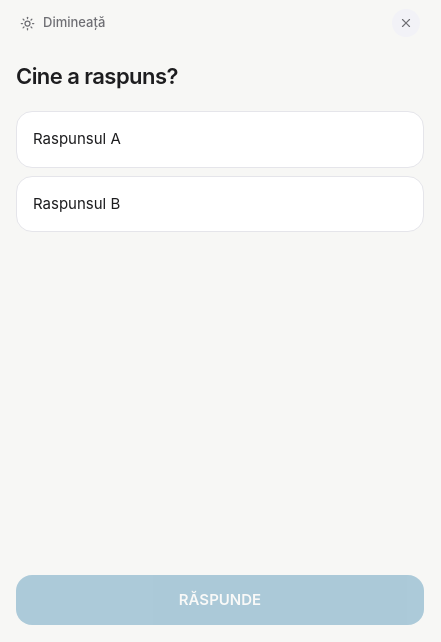
it: R3 regression: Discover UI distinguishes accepted/already_recorded/conflict › status 'accepted' reveals normally, with no conflict banner
Expected: the heading "Cine a raspuns?" is shown, [16,63,178,89]
Click the button "Raspunsul A" at (77, 139), box [16,111,424,168]
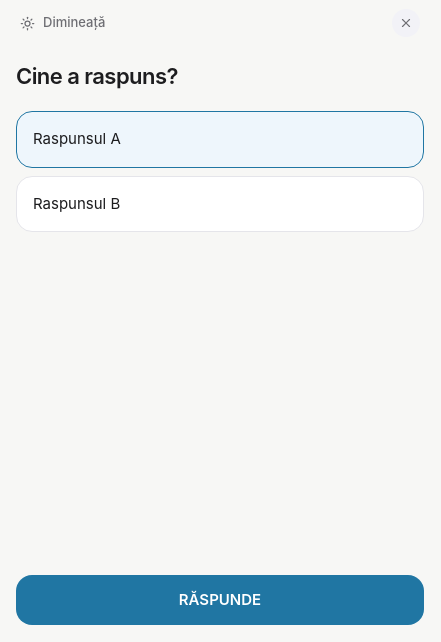
Click the button "RĂSPUNDE" at (220, 600), box [16,574,424,625]
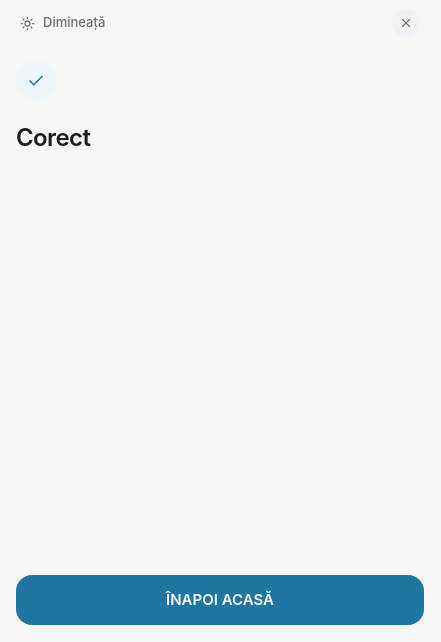
Now the text "Corect" is shown, box [16,123,90,152]
